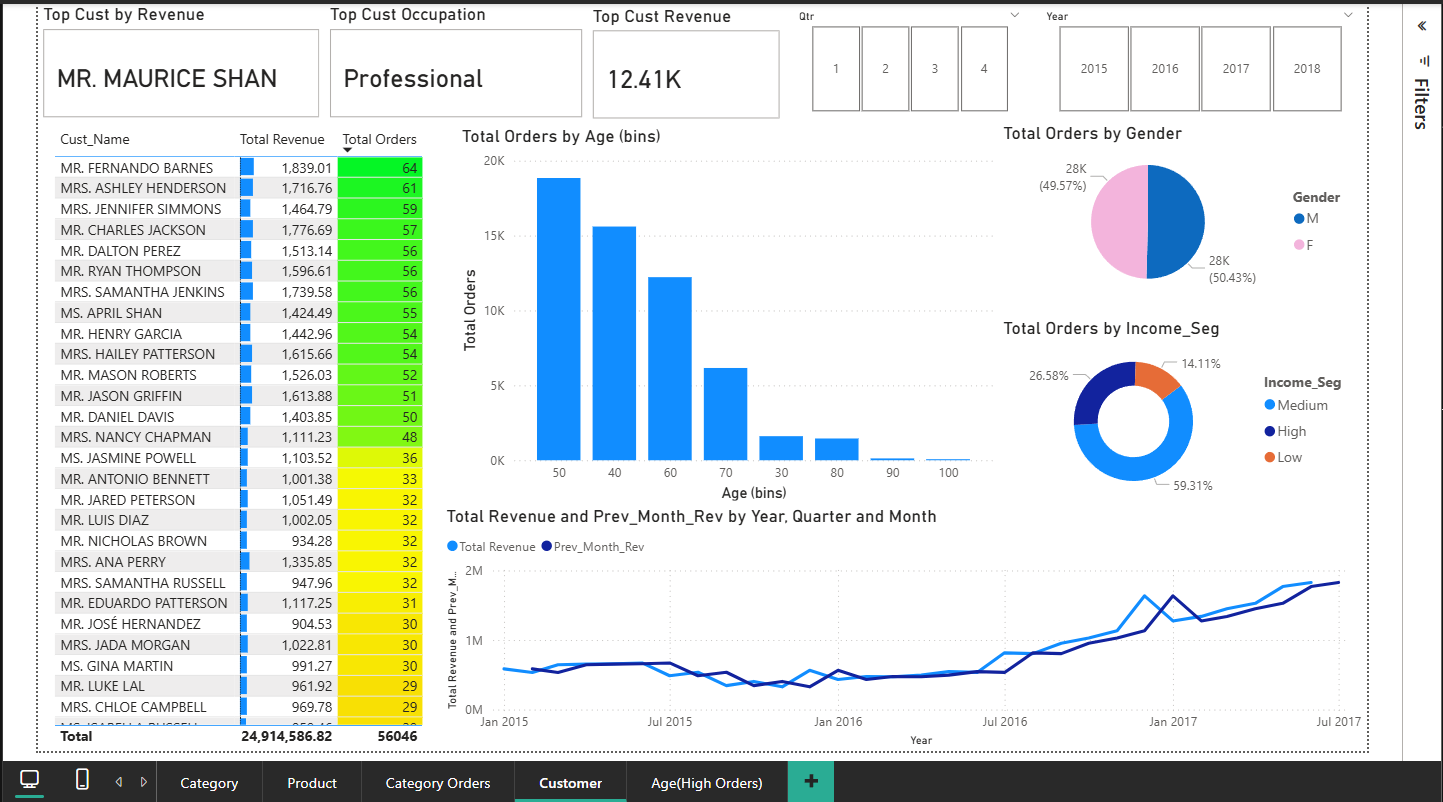

The dashboard page shown, as its layout file describes it:
{"tool":"powerbi","page":{"name":"Customer","canvas":[1280,720],"ordinal":3},"visuals":[{"type":"tableEx","fields":{"Values":["Customers.Cust_Name","Sales.Total Revenue","Sales.Total Orders"]},"box":[10,115,418.3,605],"z":0},{"type":"pieChart","fields":{"Category":["Customers.Gender"],"Y":["Sales.Total Orders"]},"box":[925,115,355,171.7],"z":1},{"type":"donutChart","fields":{"Category":["Customers.Income_Seg"],"Y":["Sales.Total Orders"]},"box":[925,301.7,355,181.7],"z":2},{"type":"cardVisual","title":"Top Cust by Revenue","fields":{"Data":["Customers.Cust_Name"]},"box":[0,0,276.7,115],"z":3},{"type":"cardVisual","title":"Top Cust Occupation","fields":{"Data":["Customers.Occupation"]},"box":[276.7,0,253.3,115],"z":4},{"type":"cardVisual","title":"Top Cust Revenue","fields":{"Data":["Sales.Total Revenue"]},"box":[530,1.7,190,115],"z":5},{"type":"lineChart","fields":{"Category":["Calendar_Tbl.Month_Start.Variation.Date Hierarchy.Year","Calendar_Tbl.Month_Start.Variation.Date Hierarchy.Quarter","Calendar_Tbl.Month_Start.Variation.Date Hierarchy.Month","Calendar_Tbl.Month_Start.Variation.Date Hierarchy.Day"],"Y":["Sales.Total Revenue","Sales.Prev_Month_Rev"]},"box":[388.3,483.3,891.7,236.7],"z":6},{"type":"clusteredColumnChart","fields":{"Category":["Customers.Age (bins)"],"Y":["Sales.Total Orders"]},"box":[403.3,116.7,521.7,366.7],"z":8},{"type":"slicer","fields":{"Values":["Calendar_Tbl.Year"]},"box":[958.3,0,321.7,110],"z":9},{"type":"slicer","fields":{"Values":["Calendar_Tbl.Qtr"]},"box":[720,0,238.3,110],"z":10}]}

Visuals, with their boxes on the page's 1280x720 design canvas (x1, y1, x2, y2). These are canvas units, not pixel positions in the 1443x802 screenshot, which may show the page scaled, cropped or inside an application window:
tableEx - Customers.Cust_Name x Sales.Total Revenue: <box>10,115,428,720</box>
pieChart - Customers.Gender x Sales.Total Orders: <box>925,115,1280,287</box>
donutChart - Customers.Income_Seg x Sales.Total Orders: <box>925,302,1280,483</box>
"Top Cust by Revenue" cardVisual: <box>0,0,277,115</box>
"Top Cust Occupation" cardVisual: <box>277,0,530,115</box>
"Top Cust Revenue" cardVisual: <box>530,2,720,117</box>
lineChart - Calendar_Tbl.Month_Start.Variation.Date Hierarchy.Year x Calendar_Tbl.Month_Start.Variation.Date Hierarchy.Quarter: <box>388,483,1280,720</box>
clusteredColumnChart - Customers.Age (bins) x Sales.Total Orders: <box>403,117,925,483</box>
slicer - Calendar_Tbl.Year: <box>958,0,1280,110</box>
slicer - Calendar_Tbl.Qtr: <box>720,0,958,110</box>
